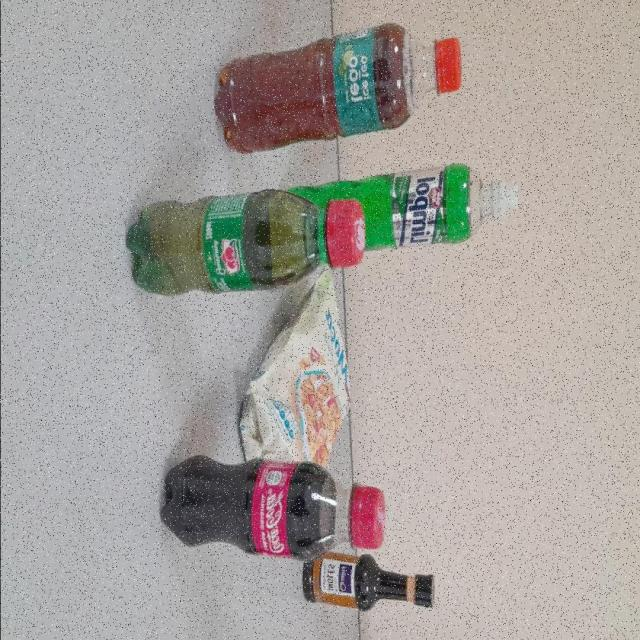Cleaner: (280, 162, 516, 250)
Coke: (158, 454, 384, 564)
CornFlakes: (238, 266, 354, 463)
EnglishSauce: (300, 550, 432, 610)
Guarana: (126, 186, 370, 296)
IceTea: (212, 22, 464, 158)
